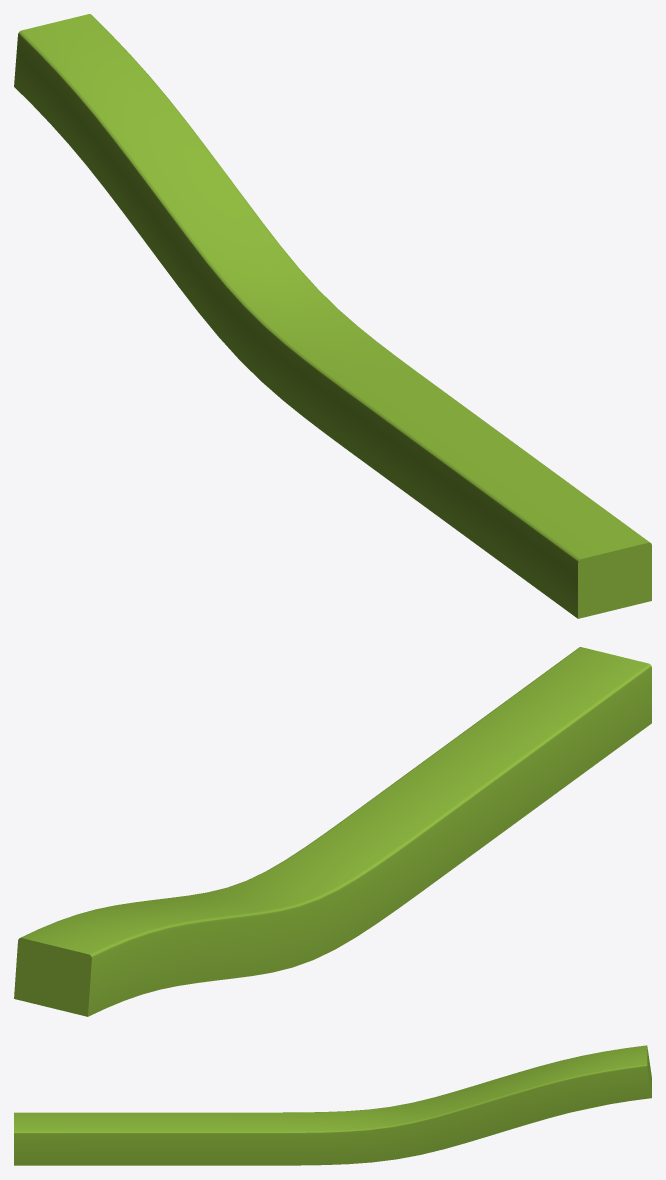
Rendered from platform_yukarı.fbx.
3 views of the same model, one above another, from view 1: azimuth 30°, elevation 25°; view 2: azimuth 150°, elevation 25°; view 3: azimuth 270°, elevation 25° (orthographic). The views are drawn at different scales.
Parts seen in each view (by area): view 1: platform_yukarı; view 2: platform_yukarı; view 3: platform_yukarı.
Boxes of the visible parts, <box> form: platform_yukarı: <box>14,14,651,618</box>; platform_yukarı: <box>14,647,651,1016</box>; platform_yukarı: <box>14,1045,651,1165</box>.
Size of the model in its own units: 1390 by 3197 by 18374.
